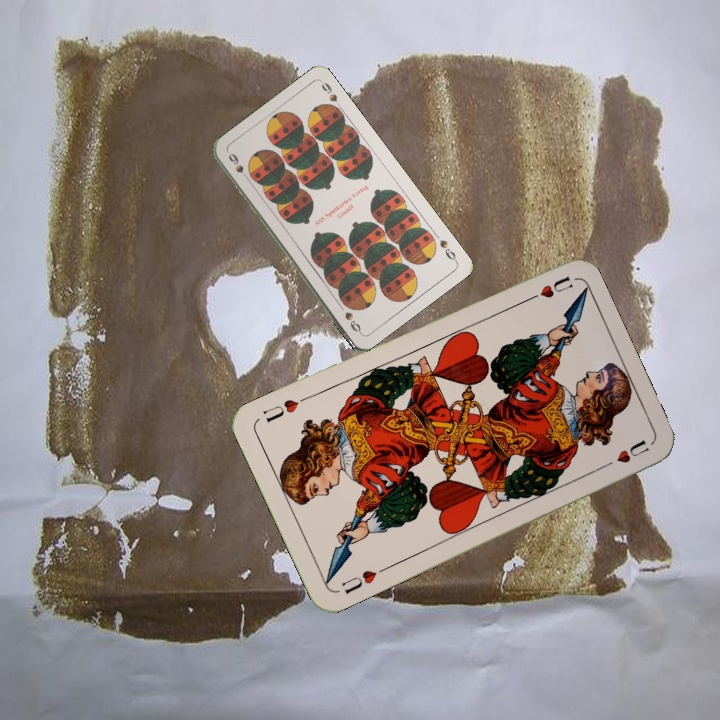HU: (519, 272, 574, 306), (337, 563, 389, 597)
S9: (224, 149, 252, 184), (435, 236, 460, 265)
